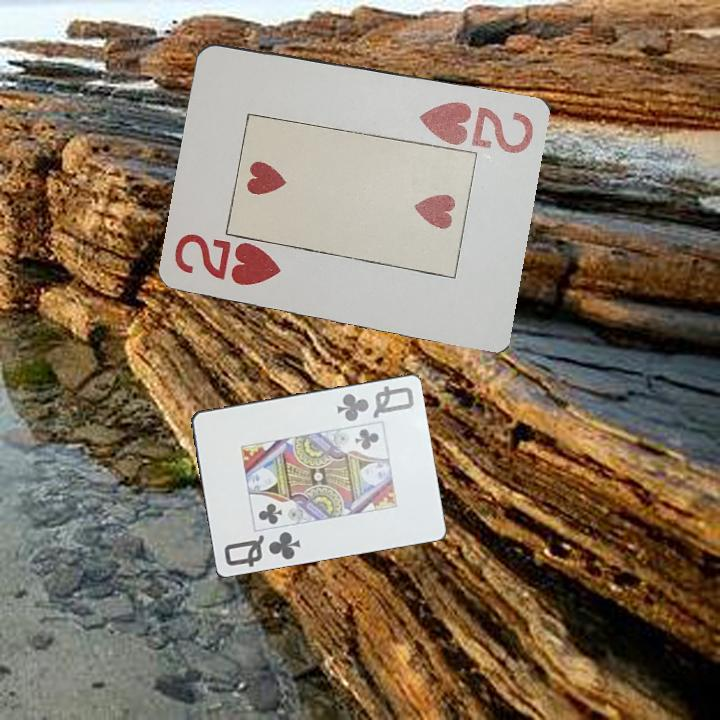2h: (416, 97, 537, 156), (171, 233, 285, 288)
Qc: (220, 528, 303, 571), (333, 383, 417, 425)
